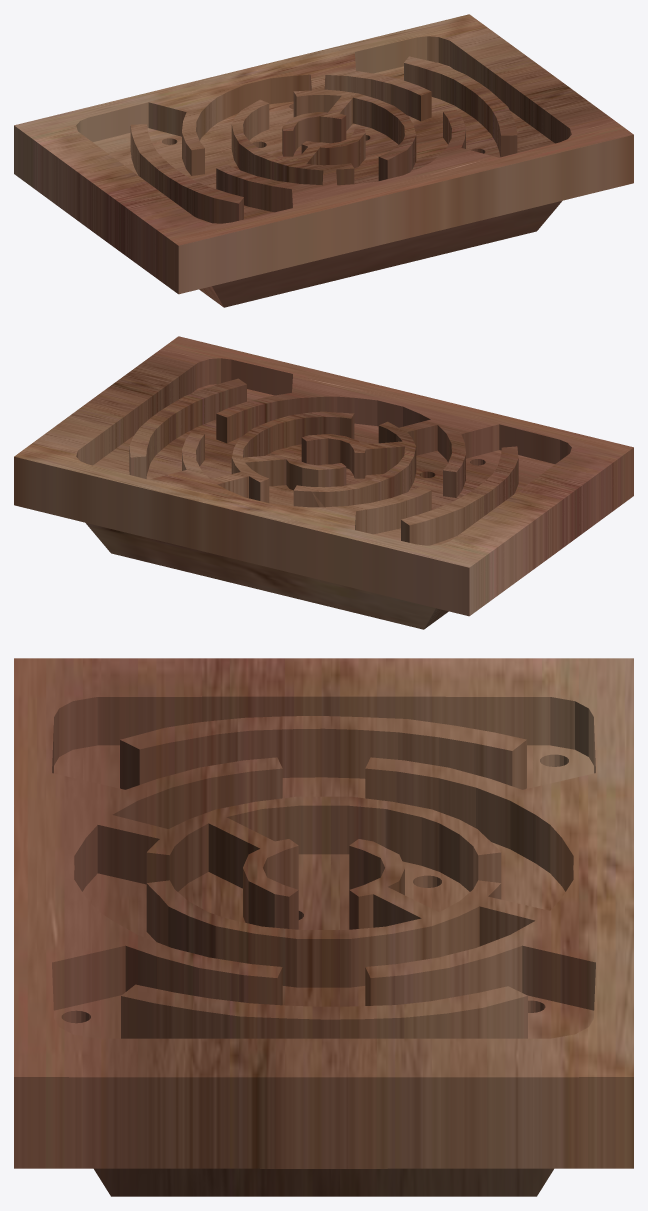
File: board2.FBX
3 renders of one model, top to bottom at view 1: azimuth 30°, elevation 25°; view 2: azimuth 150°, elevation 25°; view 3: azimuth 270°, elevation 25°, orthographic. The views are drawn at different scales.
Visible parts, largest first — view 1: Plane01; view 2: Plane01; view 3: Plane01.
Part boxes in pixels (bbox=[...]): Plane01: bbox=[14, 14, 633, 307]; Plane01: bbox=[14, 336, 633, 629]; Plane01: bbox=[14, 658, 633, 1196].
Size of the model in its own units: 160 by 32.92 by 100.
